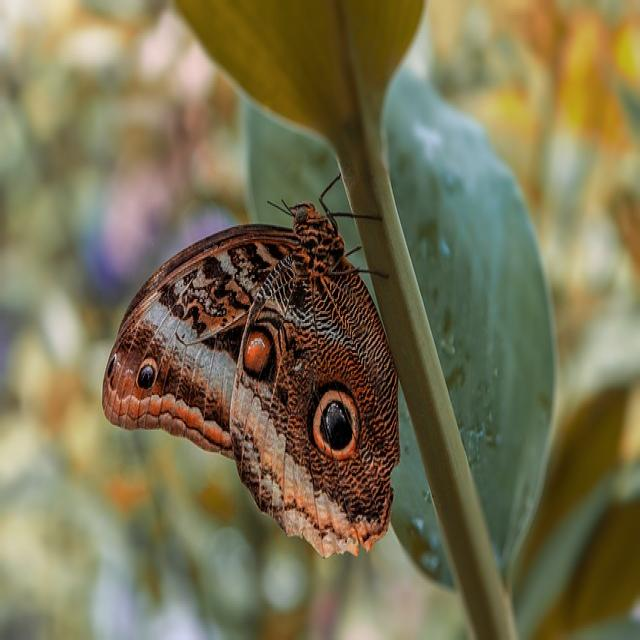butterfly: (101, 203, 402, 559)
